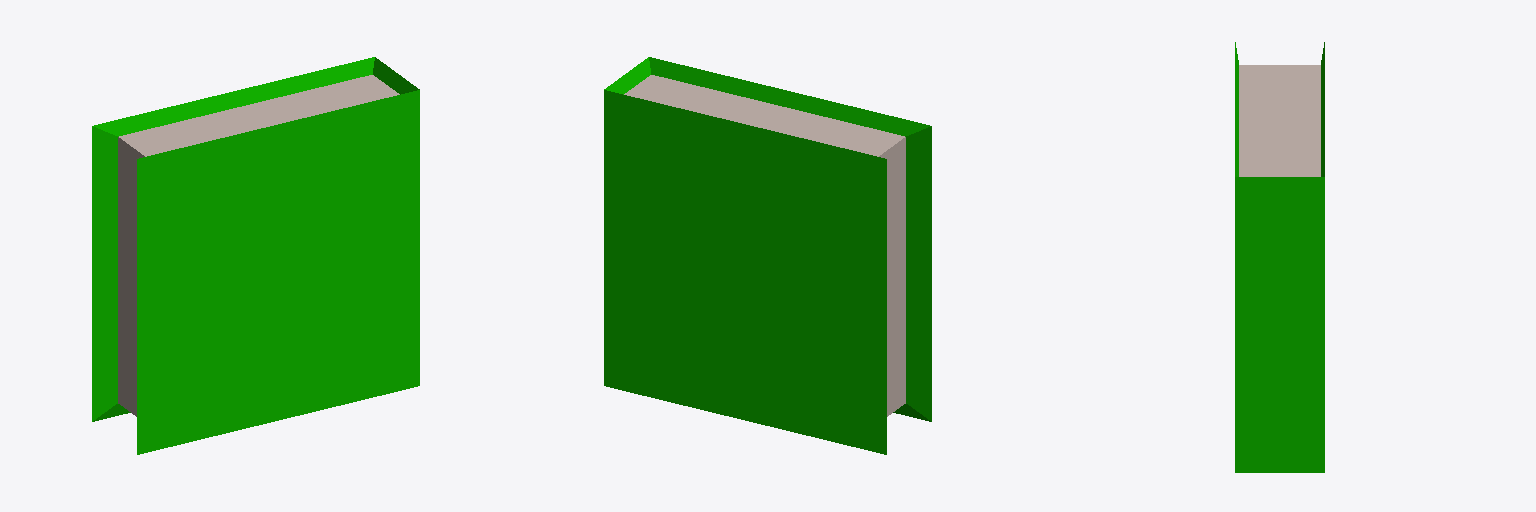
Rendered from Book_006.obj.
3 views of the same model, side by side, from view 1: azimuth 30°, elevation 25°; view 2: azimuth 150°, elevation 25°; view 3: azimuth 270°, elevation 25° (orthographic).
Parts seen in each view (by area): view 1: Book_6_Cube.010; view 2: Book_6_Cube.010; view 3: Book_6_Cube.010.
Part boxes in pixels (x1,y1,x2,y2): Book_6_Cube.010: (92, 57, 419, 454); Book_6_Cube.010: (604, 57, 931, 454); Book_6_Cube.010: (1235, 42, 1324, 472).
Size of the model in its own units: 2 by 2 by 0.5511.